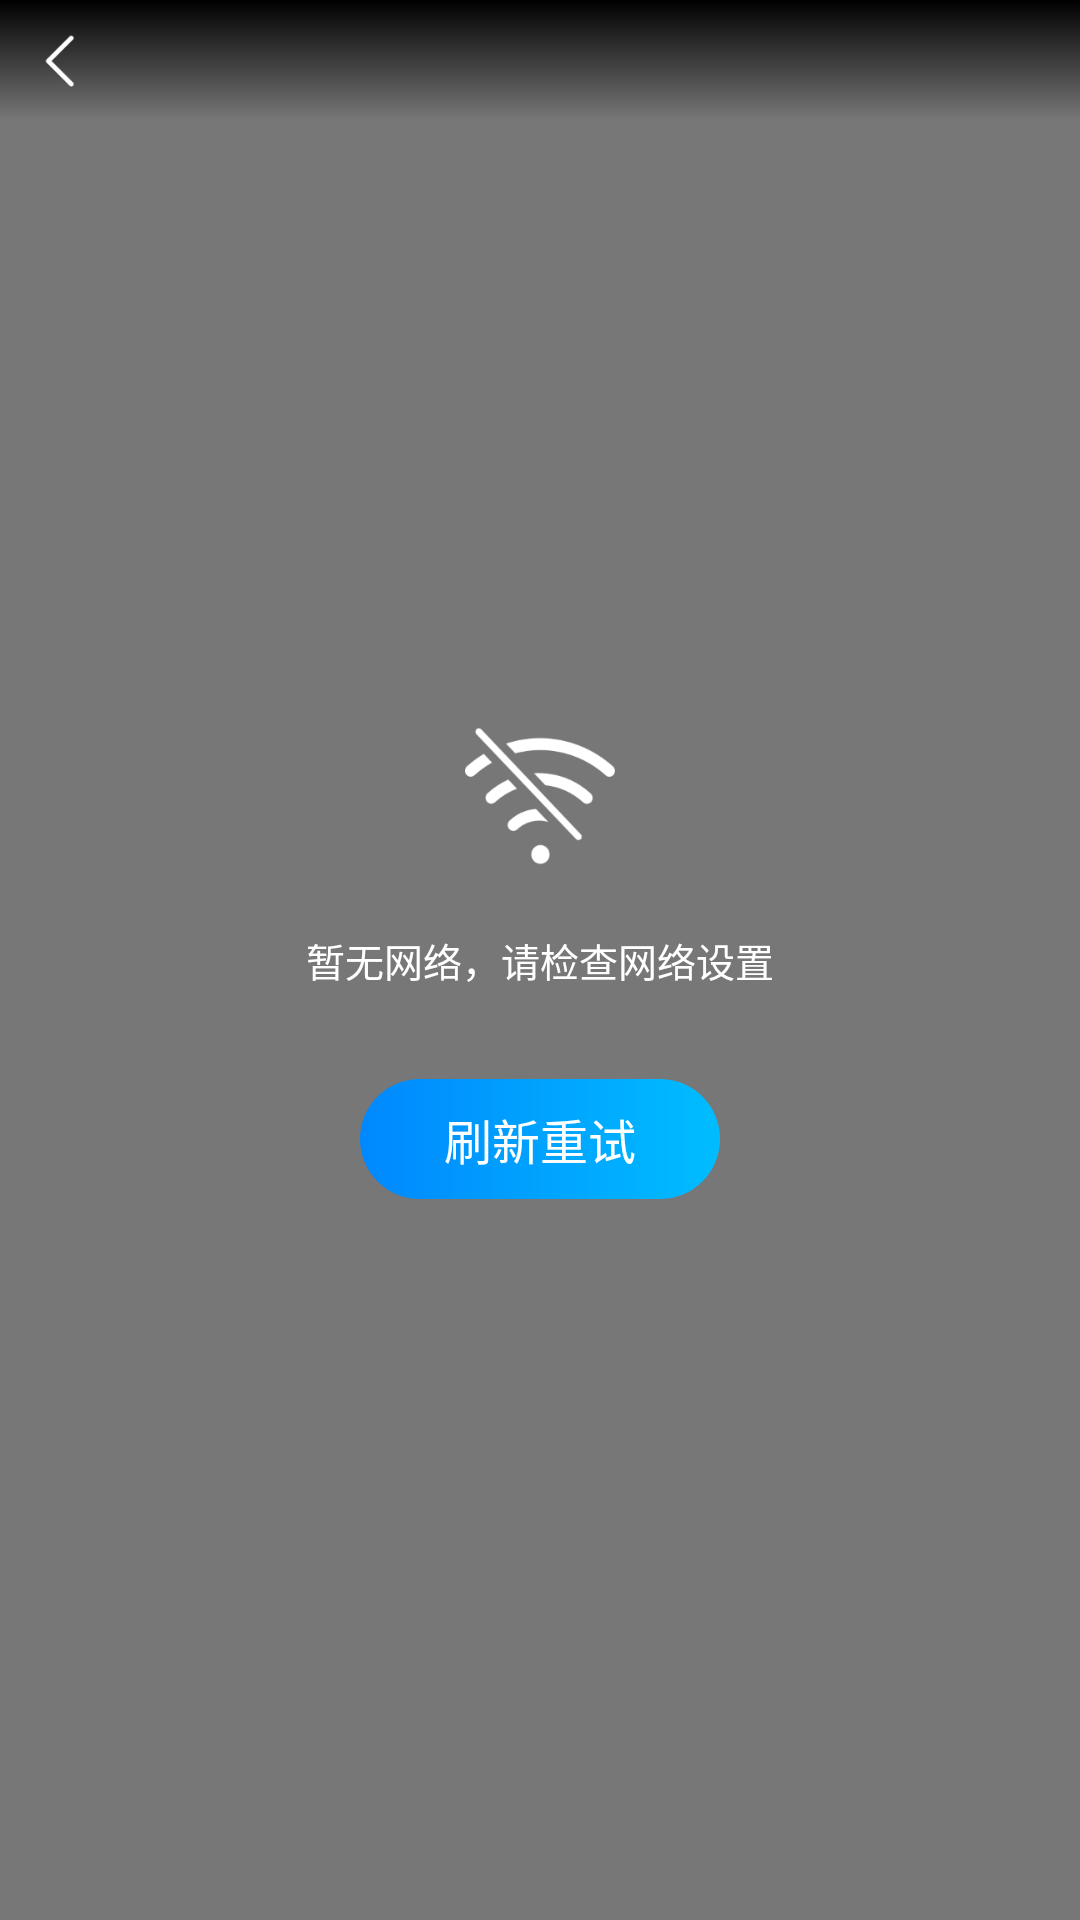

Named icons in this screenshot (1080x1920) and their centers, (x,y):
video error no network: (540,796)
video play back: (60,60)
